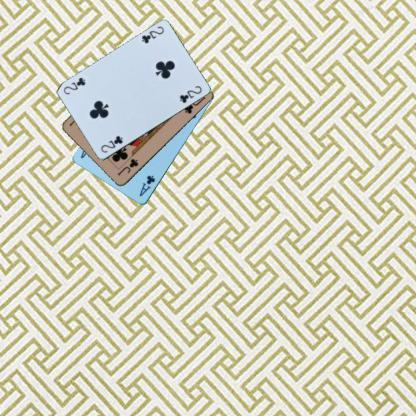2c: (139, 23, 165, 46), (98, 132, 124, 154)
Ac: (137, 172, 157, 198)
Jc: (115, 156, 140, 178)
